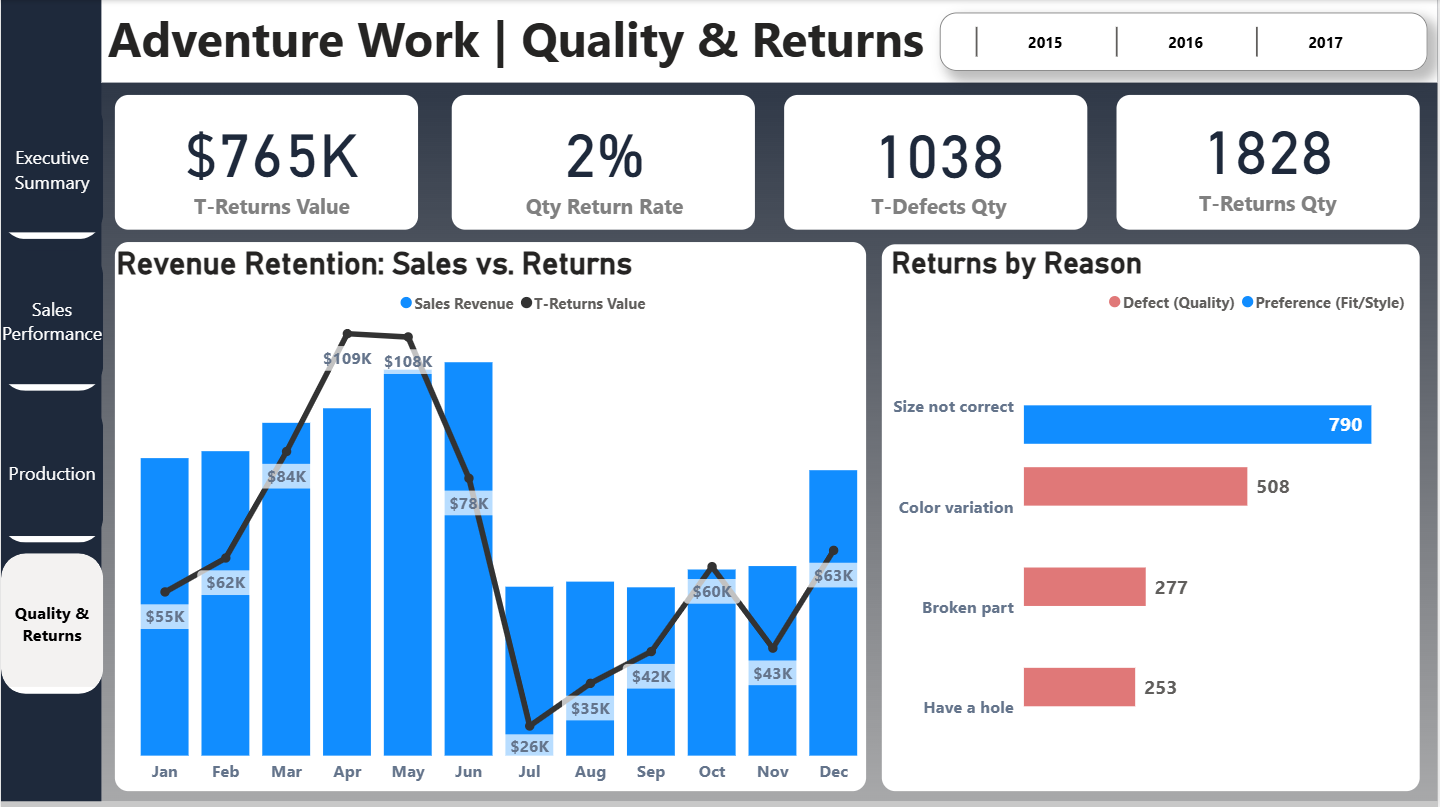

Layout of this report page (visuals, bound fields, positions):
{"tool":"powerbi","page":{"name":"Quality & Returns","canvas":[1280,720],"ordinal":3},"visuals":[{"type":"card","fields":{"Values":["_Measures.T-Returns Value"]},"box":[106.9,84.6,269.4,119.1],"z":0},{"type":"card","fields":{"Values":["_Measures.Qty Return Rate"]},"box":[404.1,84.6,267.2,119.1],"z":1000},{"type":"card","fields":{"Values":["_Measures.T-Defects Qty"]},"box":[700.2,87.9,270.5,113.5],"z":2000},{"type":"card","fields":{"Values":["_Measures.T-Returns Qty"]},"box":[996.3,84.6,263.8,113.5],"z":3000},{"type":"lineClusteredColumnComboChart","title":"Revenue Retention: Sales vs. Returns","fields":{"Category":["Dim_Date.Year Hierarchy.MonthName"],"Y":["_Measures.Sales Revenue"],"Y2":["_Measures.T-Returns Value"]},"box":[98,218.2,738,488.7],"z":4000},{"type":"textbox","box":[90.2,0,745.8,72.4],"z":5000},{"type":"clusteredBarChart","title":"Returns by Reason","fields":{"Category":["Fact_Complaints_Returns.Complaint Description"],"Y":["_Measures.T-Returns Qty"],"Series":["Fact_Complaints_Returns.Return Category"]},"box":[788.1,218.2,472,488.7],"z":6000},{"type":"slicer","fields":{"Values":["Dim_Date.Year"]},"box":[836,11.1,434.1,52.3],"z":7000},{"type":"pageNavigator","box":[0,87.9,91.3,532.1],"z":8000}]}

Visuals, with their boxes in screenshot pixels (x1, y1, x2, y2), scaled from the page's 1280x720 canvas onto the 1440x807 screenshot:
card - _Measures.T-Returns Value: (120, 95, 423, 228)
card - _Measures.Qty Return Rate: (455, 95, 755, 228)
card - _Measures.T-Defects Qty: (788, 99, 1092, 226)
card - _Measures.T-Returns Qty: (1121, 95, 1418, 222)
"Revenue Retention: Sales vs. Returns" lineClusteredColumnComboChart: (110, 245, 940, 792)
textbox: (101, 0, 940, 81)
"Returns by Reason" clusteredBarChart: (887, 245, 1418, 792)
slicer - Dim_Date.Year: (940, 12, 1429, 71)
pageNavigator: (0, 99, 103, 695)
